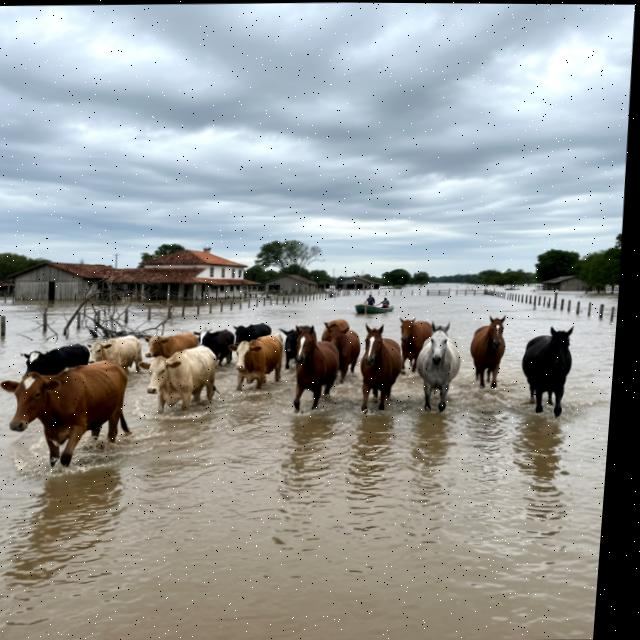civilian: (360, 291, 378, 310), (376, 294, 391, 308)
cow: (0, 355, 140, 475), (131, 343, 226, 418), (220, 331, 288, 394), (78, 331, 150, 381), (13, 338, 94, 379), (189, 325, 238, 371), (138, 330, 203, 362), (276, 323, 316, 373), (228, 322, 276, 355)
horse: (516, 319, 581, 421), (408, 316, 469, 417), (285, 321, 347, 416), (350, 319, 409, 418), (465, 312, 513, 395), (316, 317, 366, 385), (393, 315, 440, 380)
